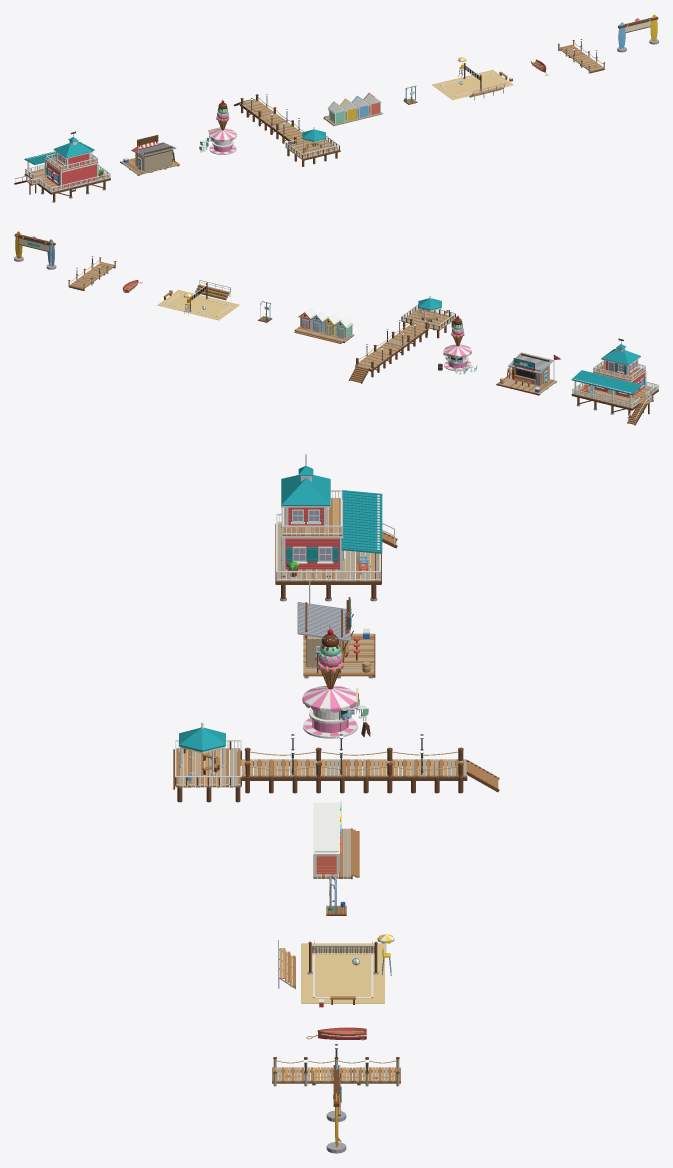
Rendered from Beach.fbx.
The picture shows the model from 3 angles, top to bottom: view 1: azimuth 30°, elevation 25°; view 2: azimuth 150°, elevation 25°; view 3: azimuth 270°, elevation 25°; orthographic projection. The views are drawn at different scales.
Parts seen in each view (by area): view 1: BeachHouse_White, VolleyballCourt_Sand, BeachHouse_Accent, Pier_WoodDark, Pier_Driftwood, Pier_Plank, BeachHouse_Teal, BeachCabanas_White, SurfShack_Driftwood, Pier_WoodLight, IceCreamKiosk_White, BeachHouse_WoodDark (+5 smaller); view 2: BeachHouse_White, BeachHouse_Teal, VolleyballCourt_Sand, Pier_Plank, BeachCabanas_White, Pier_Driftwood, Pier_WoodDark, BeachHouse_Plank, Pier_WoodLight, BeachHouse_WoodDark, IceCreamKiosk_Pink, Pier_White (+9 smaller); view 3: VolleyballCourt_Sand, BeachHouse_Teal, Pier_WoodDark, BeachHouse_White, Pier_Plank, Pier_Driftwood, Pier_WoodLight, BeachHouse_Accent, IceCreamKiosk_Pink, BeachCabanas_White, IceCreamKiosk_White, SurfShack_Metal (+2 smaller).
Part boxes in pixels (bbox=[...]): BeachHouse_White: bbox=[15, 141, 110, 192]; VolleyballCourt_Sand: bbox=[432, 69, 513, 99]; BeachHouse_Accent: bbox=[46, 153, 96, 187]; Pier_WoodDark: bbox=[233, 94, 340, 166]; Pier_Driftwood: bbox=[239, 99, 338, 158]; Pier_Plank: bbox=[235, 99, 339, 159]; BeachHouse_Teal: bbox=[24, 137, 94, 183]; BeachCabanas_White: bbox=[328, 93, 381, 124]; SurfShack_Driftwood: bbox=[120, 151, 175, 175]; Pier_WoodLight: bbox=[244, 102, 337, 157]; IceCreamKiosk_White: bbox=[201, 102, 236, 154]; BeachHouse_WoodDark: bbox=[14, 169, 110, 201]; BeachHouse_White: bbox=[572, 348, 658, 423]; BeachHouse_Teal: bbox=[571, 344, 645, 394]; VolleyballCourt_Sand: bbox=[157, 289, 239, 320]; Pier_Plank: bbox=[350, 309, 456, 382]; BeachCabanas_White: bbox=[299, 308, 353, 338]; Pier_Driftwood: bbox=[355, 309, 454, 369]; Pier_WoodDark: bbox=[349, 305, 456, 383]; BeachHouse_Plank: bbox=[573, 364, 655, 424]; Pier_WoodLight: bbox=[360, 310, 453, 365]; BeachHouse_WoodDark: bbox=[571, 385, 658, 425]; IceCreamKiosk_Pink: bbox=[439, 329, 471, 369]; Pier_White: bbox=[401, 295, 455, 329]; VolleyballCourt_Sand: bbox=[301, 943, 384, 1003]; BeachHouse_Teal: bbox=[281, 466, 382, 561]; Pier_WoodDark: bbox=[173, 741, 499, 802]; BeachHouse_White: bbox=[276, 476, 394, 580]; Pier_Plank: bbox=[175, 749, 498, 788]; Pier_Driftwood: bbox=[179, 749, 466, 787]; Pier_WoodLight: bbox=[183, 749, 446, 787]; BeachHouse_Accent: bbox=[285, 507, 339, 569]; IceCreamKiosk_Pink: bbox=[302, 652, 369, 736]; BeachCabanas_White: bbox=[313, 802, 339, 874]; IceCreamKiosk_White: bbox=[302, 635, 366, 738]; SurfShack_Metal: bbox=[297, 602, 350, 641].
Bounding box in the file's own units: 450 × 41.69 × 101.
